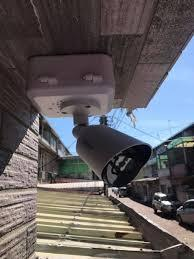Monitor: (53, 91, 171, 214)
